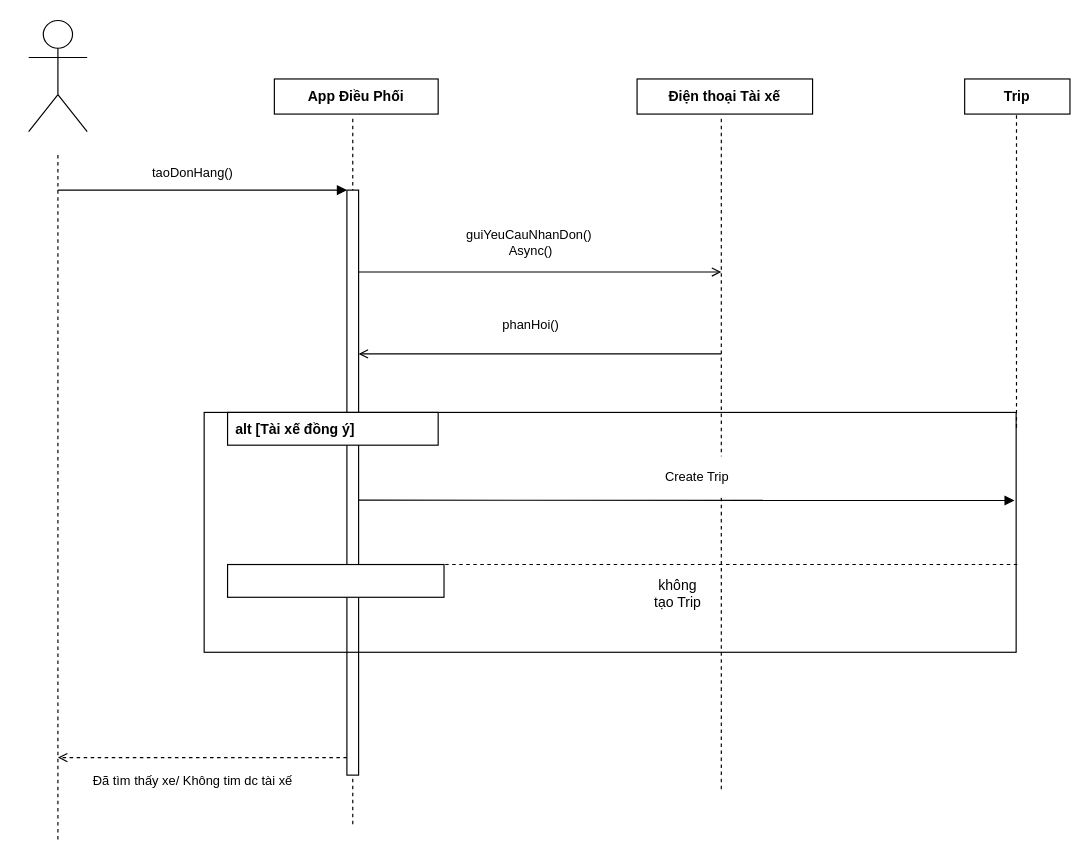
Some shapes in this 1090 by 861 pixel diagram are drawn without their labels. Here are the shapes that lost their labels. From the top down, the centre of each, then its label:
At [57,75]: "Khách hàng".
At [335,580]: "else [Tài xế từ chối]".
